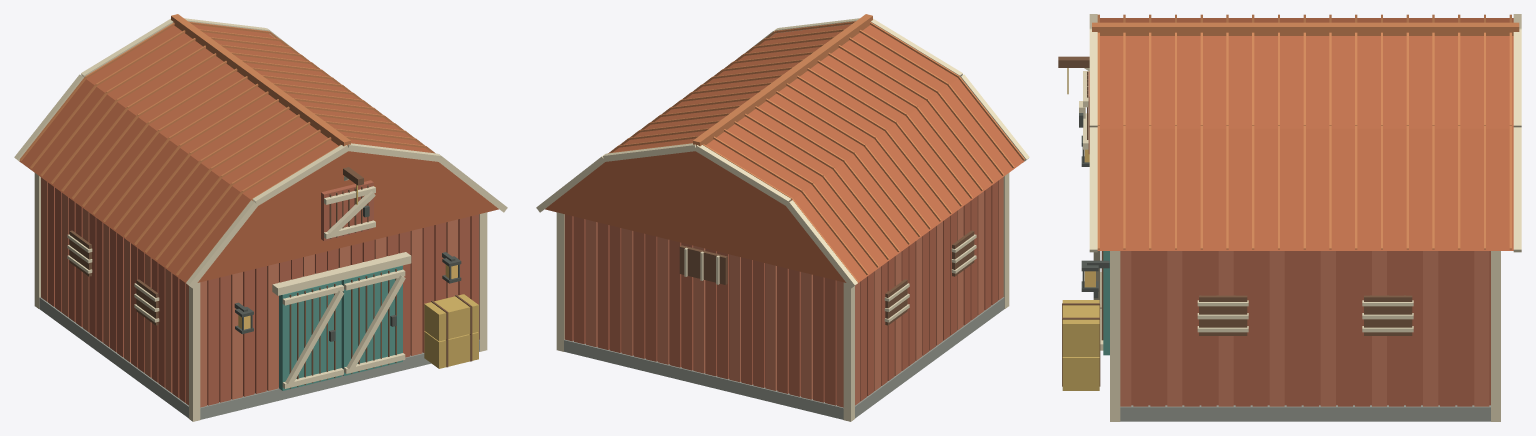
The model's file is farm_art_barn_upgrade.glb.
The picture shows the model from 3 angles, left to right: view 1: azimuth 30°, elevation 25°; view 2: azimuth 150°, elevation 25°; view 3: azimuth 270°, elevation 25°; orthographic projection. The views are drawn at different scales.
Visible parts, largest first — view 1: Closed gambrel roof, Solid stone footing.001, Closed timber door.002, Closed timber door.003, Roof ridge cap.001, Straw bale.002, Front lintel.001, Corner post.004, Vertical weatherboard.056, Vertical weatherboard.040, Vertical weatherboard.043, Vertical weatherboard.039 (+49 smaller); view 2: Closed gambrel roof, Solid stone footing.001, Roof ridge cap.001, Closed barn shell.001, Vertical weatherboard.081, Vertical weatherboard.082, Vertical weatherboard.078, Vertical weatherboard.079, Vertical weatherboard.080, Vertical weatherboard.077, Corner post.005, Vertical weatherboard.076 (+50 smaller); view 3: Closed gambrel roof, Closed barn shell.001, Solid stone footing.001, Roof ridge cap.001, Side weatherboard.057, Side weatherboard.058, Side weatherboard.059, Side weatherboard.064, Side weatherboard.065, Side weatherboard.066, Side weatherboard.067, Side weatherboard.068 (+25 smaller).
Boxes of the visible parts, x1=… form: Closed gambrel roof: x1=19, y1=24, x2=498, y2=282; Solid stone footing.001: x1=39, y1=297, x2=479, y2=419; Closed timber door.002: x1=279, y1=280, x2=341, y2=390; Closed timber door.003: x1=341, y1=265, x2=402, y2=375; Roof ridge cap.001: x1=171, y1=14, x2=350, y2=146; Straw bale.002: x1=424, y1=294, x2=478, y2=341; Front lintel.001: x1=272, y1=252, x2=411, y2=295; Corner post.004: x1=189, y1=282, x2=200, y2=421; Vertical weatherboard.056: x1=410, y1=228, x2=422, y2=355; Vertical weatherboard.040: x1=219, y1=275, x2=230, y2=402; Vertical weatherboard.043: x1=255, y1=266, x2=266, y2=393; Vertical weatherboard.039: x1=207, y1=278, x2=218, y2=405; Closed gambrel roof: x1=545, y1=24, x2=1024, y2=282; Solid stone footing.001: x1=564, y1=297, x2=1004, y2=419; Roof ridge cap.001: x1=693, y1=14, x2=872, y2=146; Closed barn shell.001: x1=573, y1=216, x2=836, y2=404; Vertical weatherboard.081: x1=609, y1=225, x2=621, y2=352; Vertical weatherboard.082: x1=597, y1=222, x2=609, y2=349; Vertical weatherboard.078: x1=645, y1=234, x2=657, y2=361; Vertical weatherboard.079: x1=633, y1=231, x2=645, y2=358; Vertical weatherboard.080: x1=621, y1=228, x2=633, y2=355; Vertical weatherboard.077: x1=657, y1=237, x2=669, y2=364; Corner post.005: x1=843, y1=282, x2=854, y2=421; Vertical weatherboard.076: x1=669, y1=240, x2=681, y2=367; Closed gambrel roof: x1=1097, y1=18, x2=1513, y2=250; Closed barn shell.001: x1=1131, y1=251, x2=1490, y2=405; Solid stone footing.001: x1=1120, y1=405, x2=1490, y2=421; Roof ridge cap.001: x1=1092, y1=22, x2=1519, y2=35; Side weatherboard.057: x1=1133, y1=251, x2=1148, y2=406; Side weatherboard.058: x1=1150, y1=251, x2=1165, y2=406; Side weatherboard.059: x1=1167, y1=251, x2=1182, y2=406; Side weatherboard.064: x1=1252, y1=251, x2=1267, y2=406; Side weatherboard.065: x1=1269, y1=251, x2=1284, y2=406; Side weatherboard.066: x1=1286, y1=251, x2=1301, y2=406; Side weatherboard.067: x1=1303, y1=251, x2=1318, y2=406; Side weatherboard.068: x1=1320, y1=251, x2=1335, y2=406.
Size of the model in its own units: 8 by 5.99 by 8.15.
